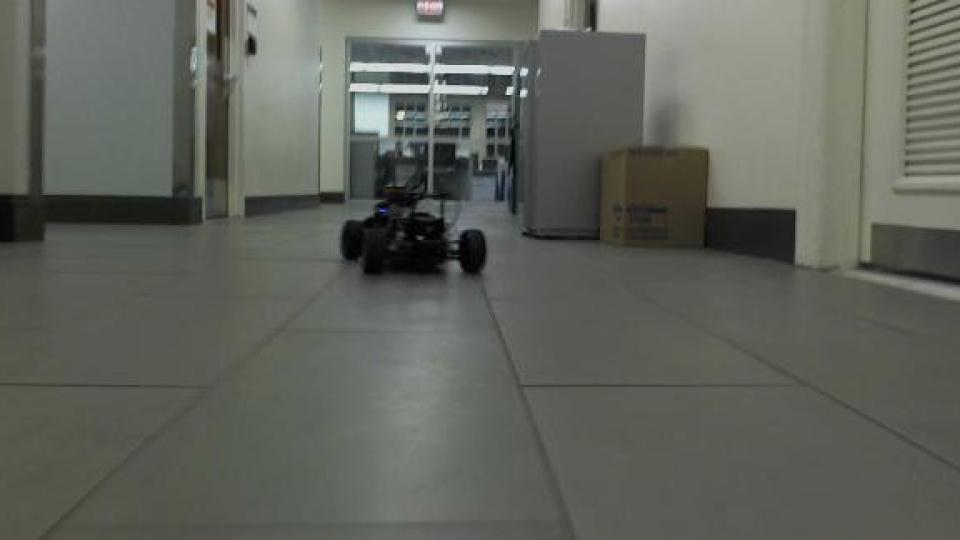car: (338, 162, 492, 280)
